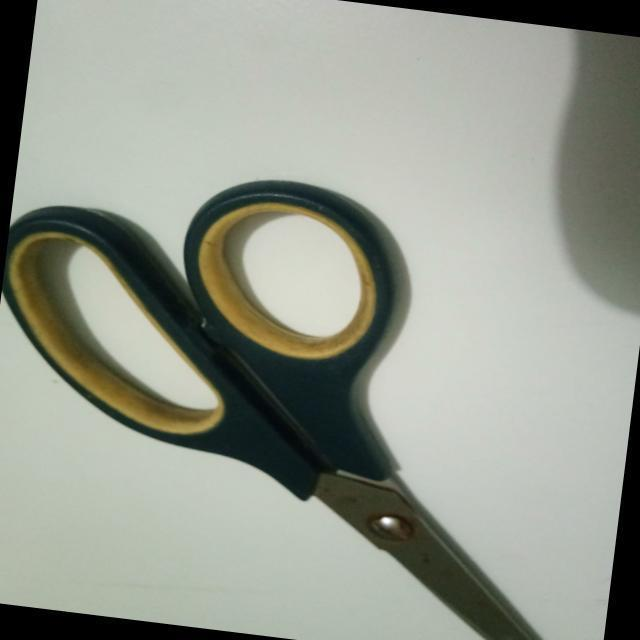scissors: (0, 132, 640, 640)
